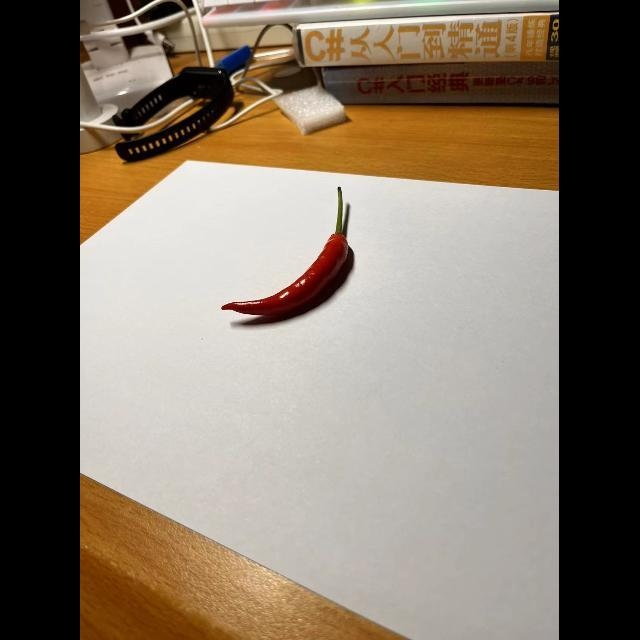chili_pepper: (222, 180, 357, 320)
